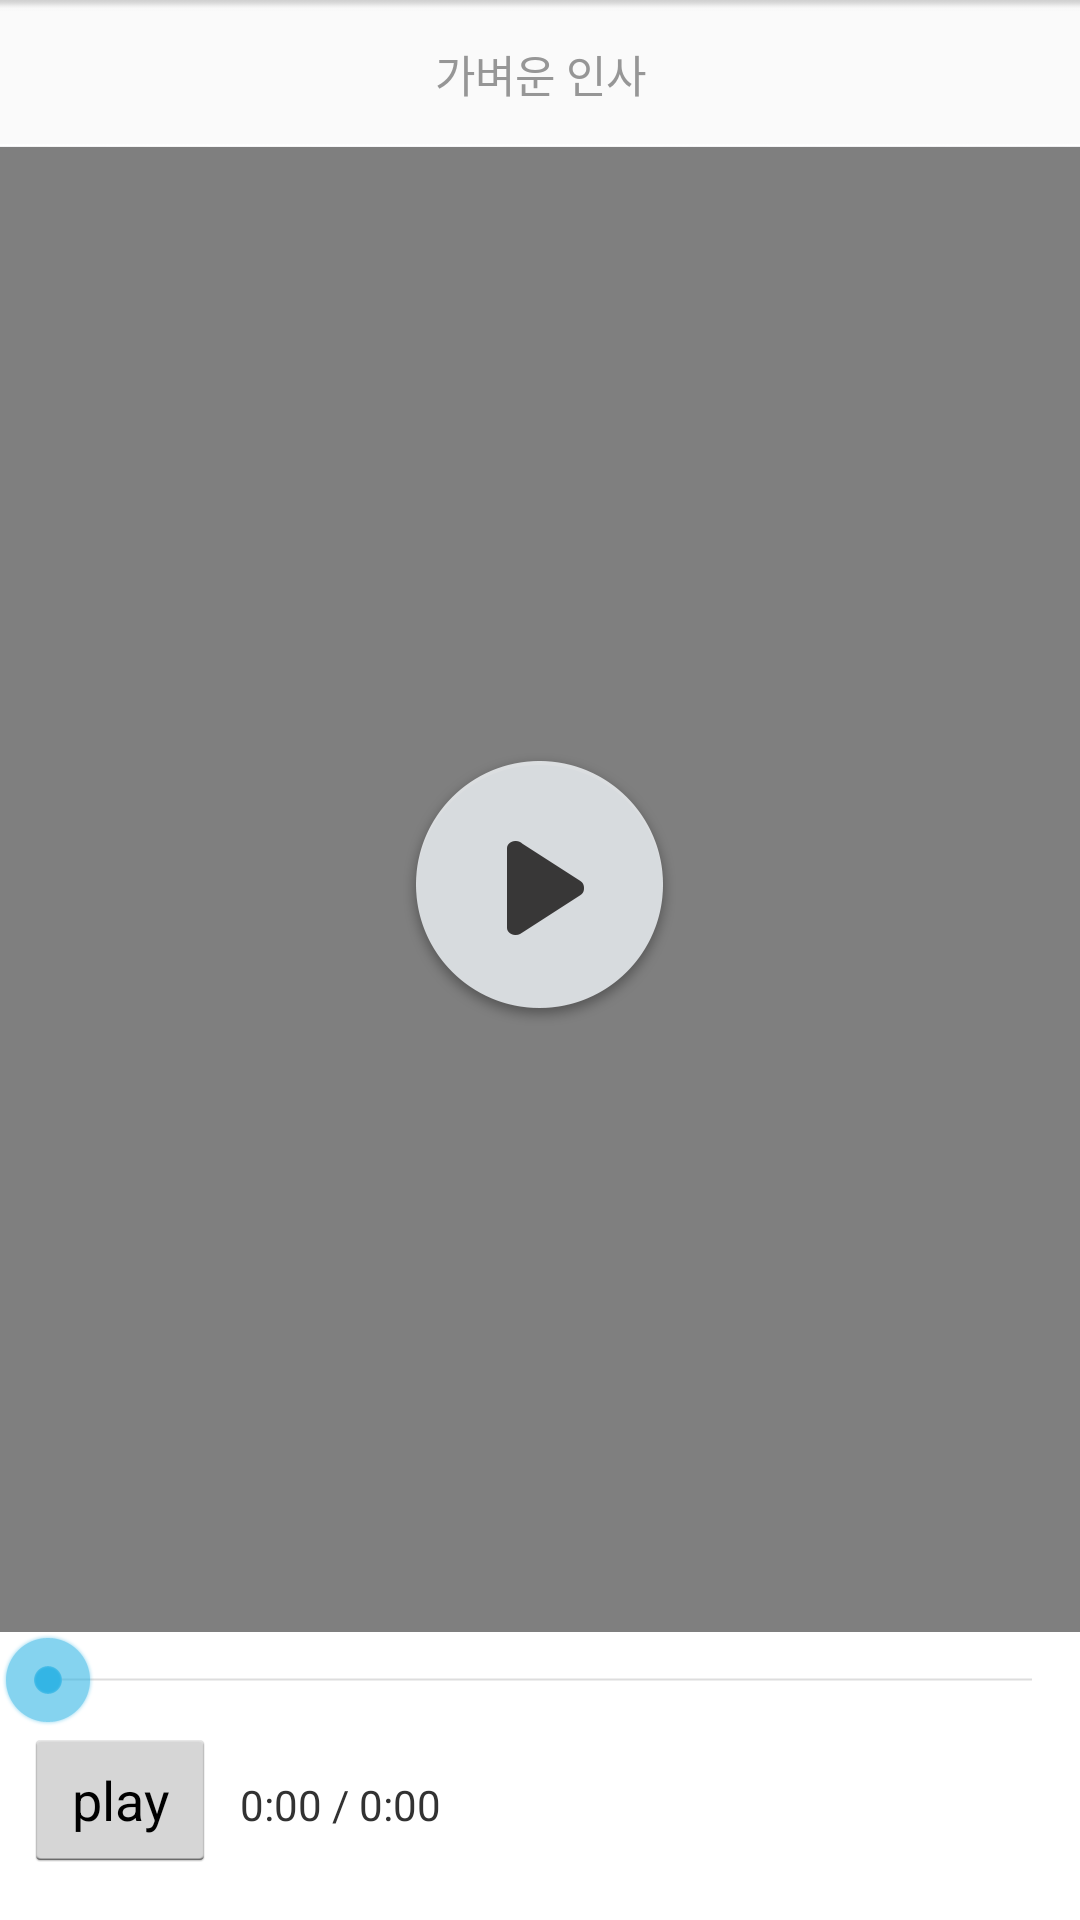

Screen size 1080px×1920px. Icon name, then its box in pixels as (x1, y1, x2, y2):
play: (416, 761, 663, 1012)
